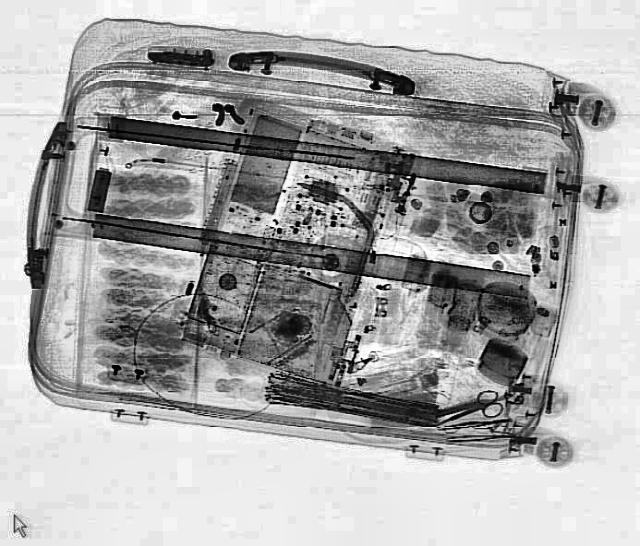Scissors: (428, 387, 510, 435)
